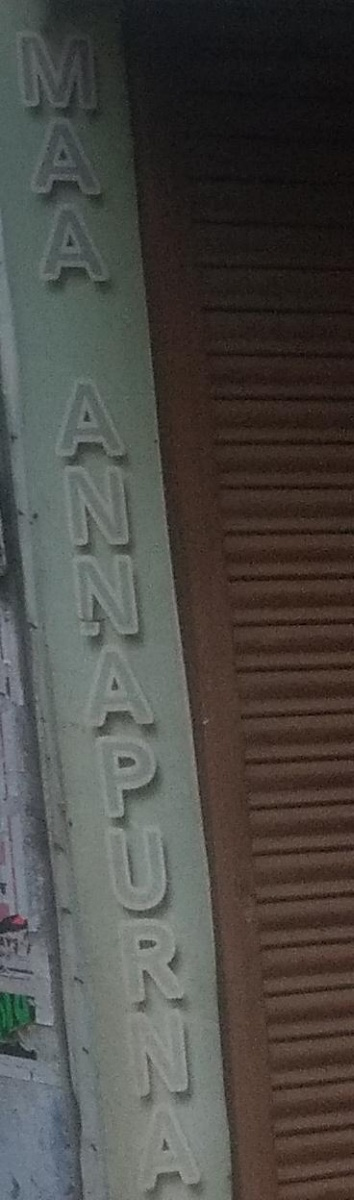text: (49, 359, 64, 1192), (65, 359, 80, 1192), (81, 359, 96, 1192), (97, 359, 112, 1192), (113, 359, 128, 1192), (129, 359, 144, 1192), (145, 359, 160, 1192), (161, 359, 176, 1192), (177, 359, 192, 1192), (193, 359, 208, 1192), (209, 359, 220, 1192), (33, 28, 48, 292), (49, 28, 64, 292), (65, 28, 80, 292), (81, 28, 96, 292), (97, 28, 112, 292), (21, 28, 32, 292), (46, 359, 48, 1192), (113, 28, 116, 292), (1, 935, 16, 956), (17, 935, 32, 956), (33, 935, 34, 956)
